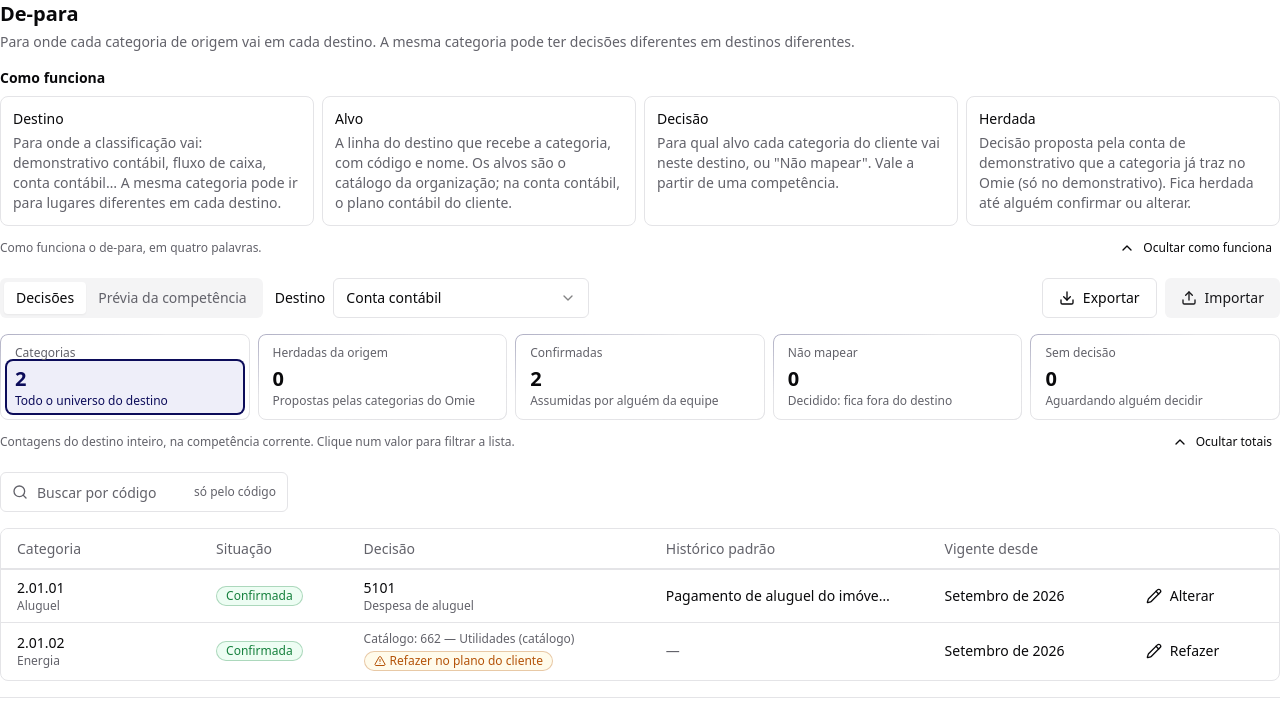
Test: troca de seletor por destino › conta_contabil: conta do plano do cliente + histórico padrão, sem catálogo
Click the button with aria-label "Alterar a categoria 2.01.01" at coordinates (1180, 596), box 1134,578 -> 1226,614
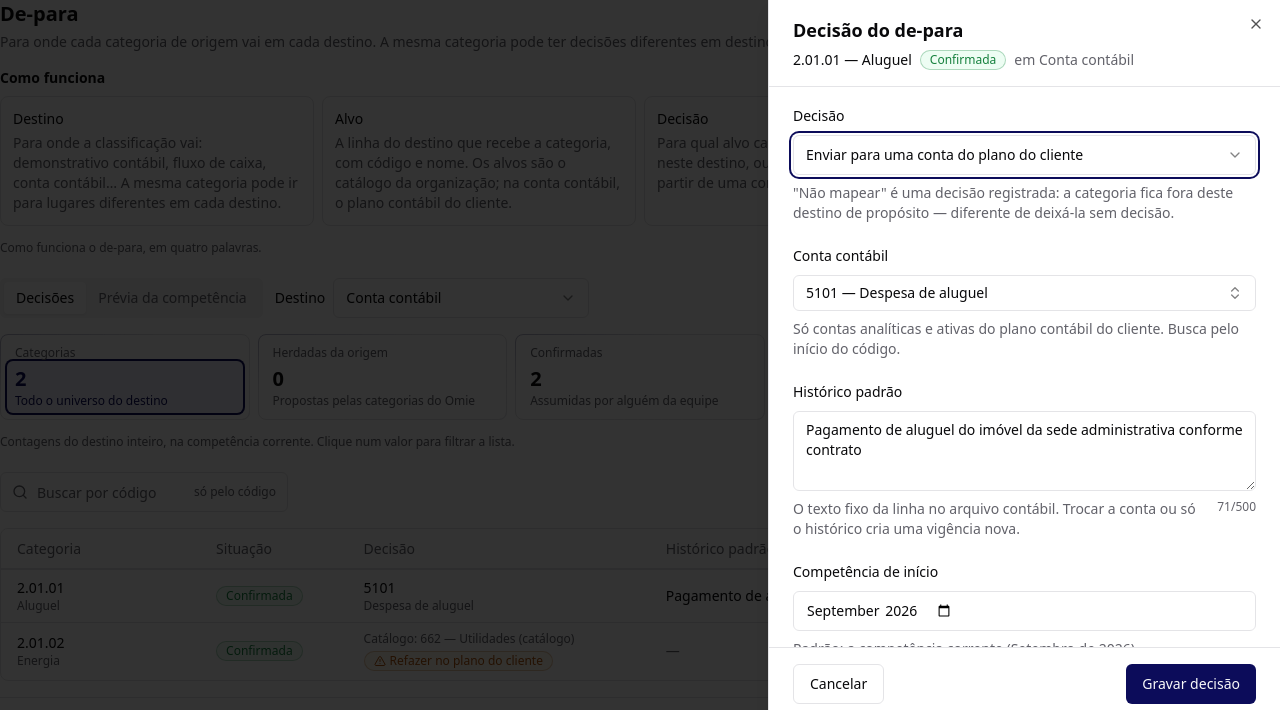
Now the button with aria-label "Conta do plano contábil do cliente: 5101" is shown, box 793,275 -> 1256,311
Now the text box labelled "Histórico padrão" holds "Pagamento de aluguel do imóvel da sede administrativa conforme contrato", box 793,411 -> 1256,491
Now the text "Trocar a conta ou só o histórico cria uma vigência nova" is shown, box 793,499 -> 1196,538
